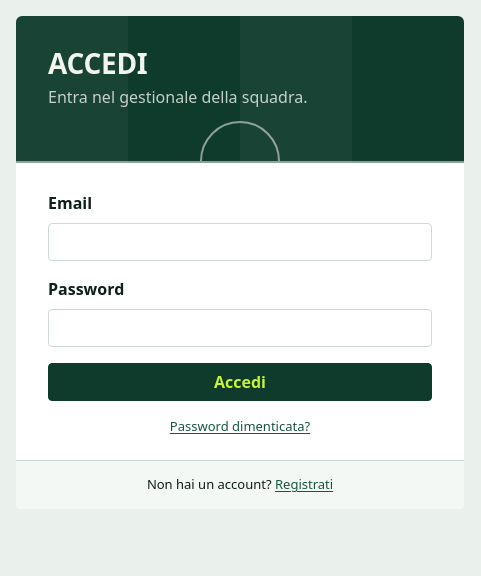
Test: LoginPage › valida i campi prima di inviare
This screenshot has width=481, height=576.
What coordinates should you click on to do the following:
click the button "Accedi"
I would click on:
 (240, 382)
Its box is left=48, top=363, right=432, bottom=401.
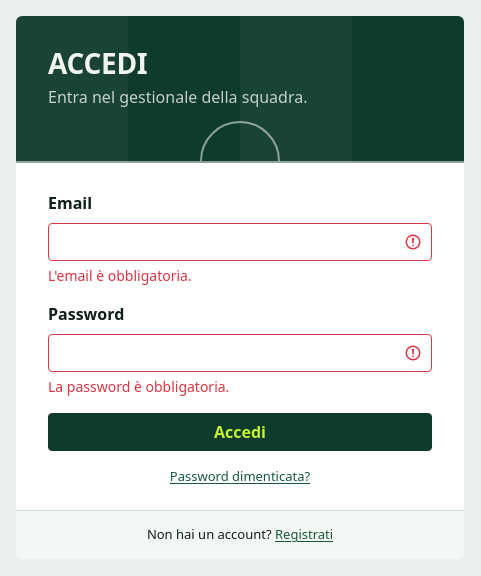
Expected: the text "L'email è obbligatoria." is shown, left=48, top=266, right=192, bottom=285
Expected: the text "La password è obbligatoria." is shown, left=48, top=377, right=229, bottom=396
